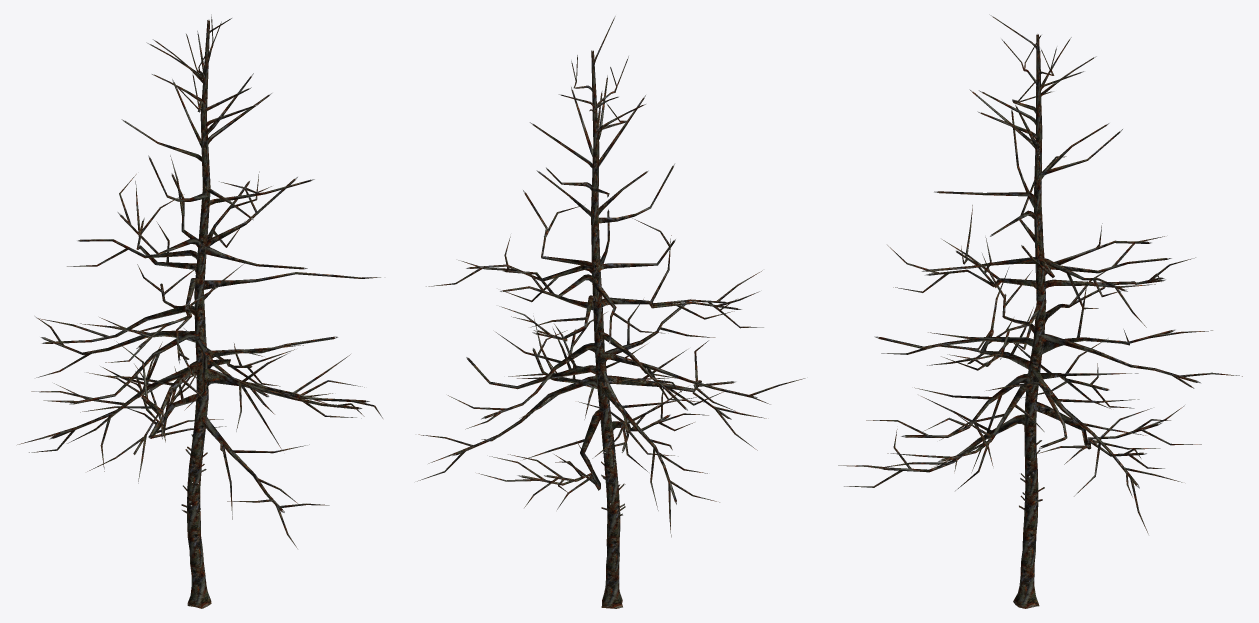
The model's file is desrt_tree01.fbx.
The picture shows the model from 3 angles, left to right: view 1: azimuth 30°, elevation 25°; view 2: azimuth 150°, elevation 25°; view 3: azimuth 270°, elevation 25°; orthographic projection. The views are drawn at different scales.
Parts seen in each view (by area): view 1: desrt_tree01; view 2: desrt_tree01; view 3: desrt_tree01.
Part boxes in pixels (x1,y1,x2,y2): desrt_tree01: [17, 14, 382, 608]; desrt_tree01: [417, 15, 805, 608]; desrt_tree01: [838, 14, 1242, 608].
Size of the model in its own units: 34.64 by 36.57 by 59.12.
